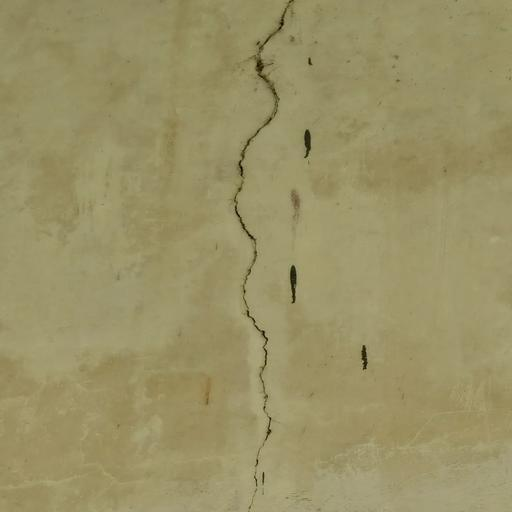minor_crack: (227, 0, 316, 512)
